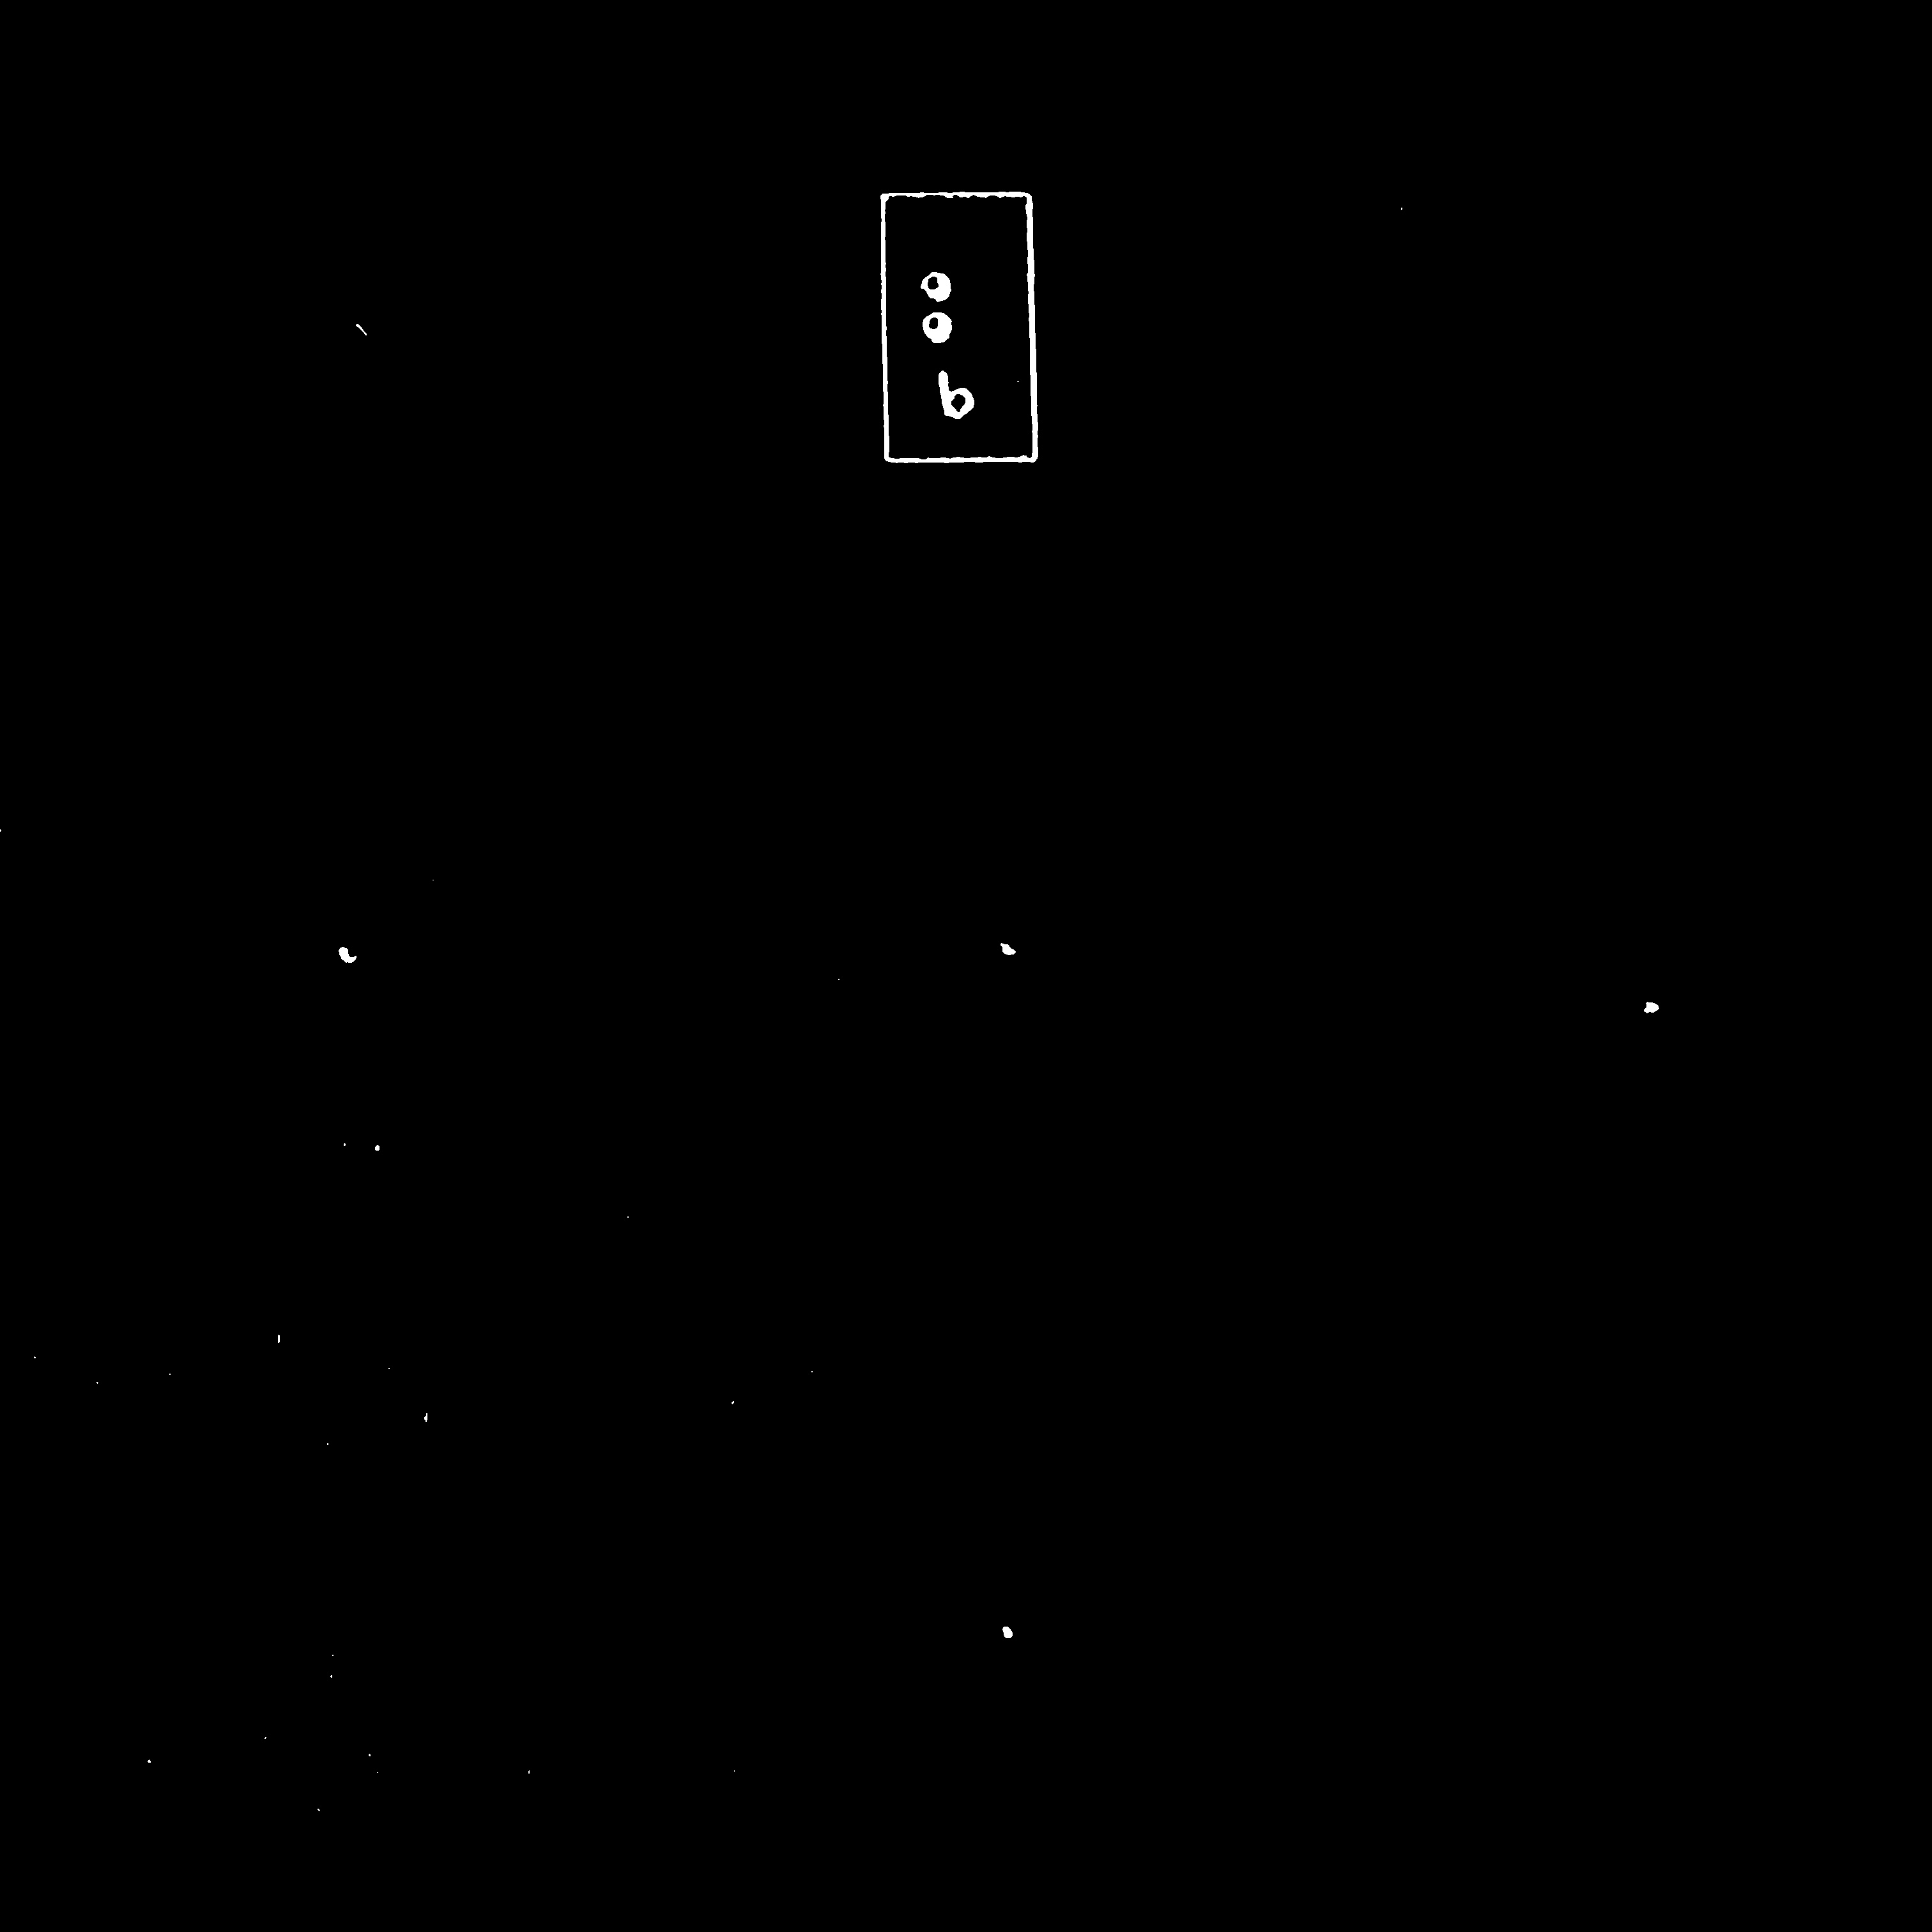b: (909, 251, 1008, 379)
